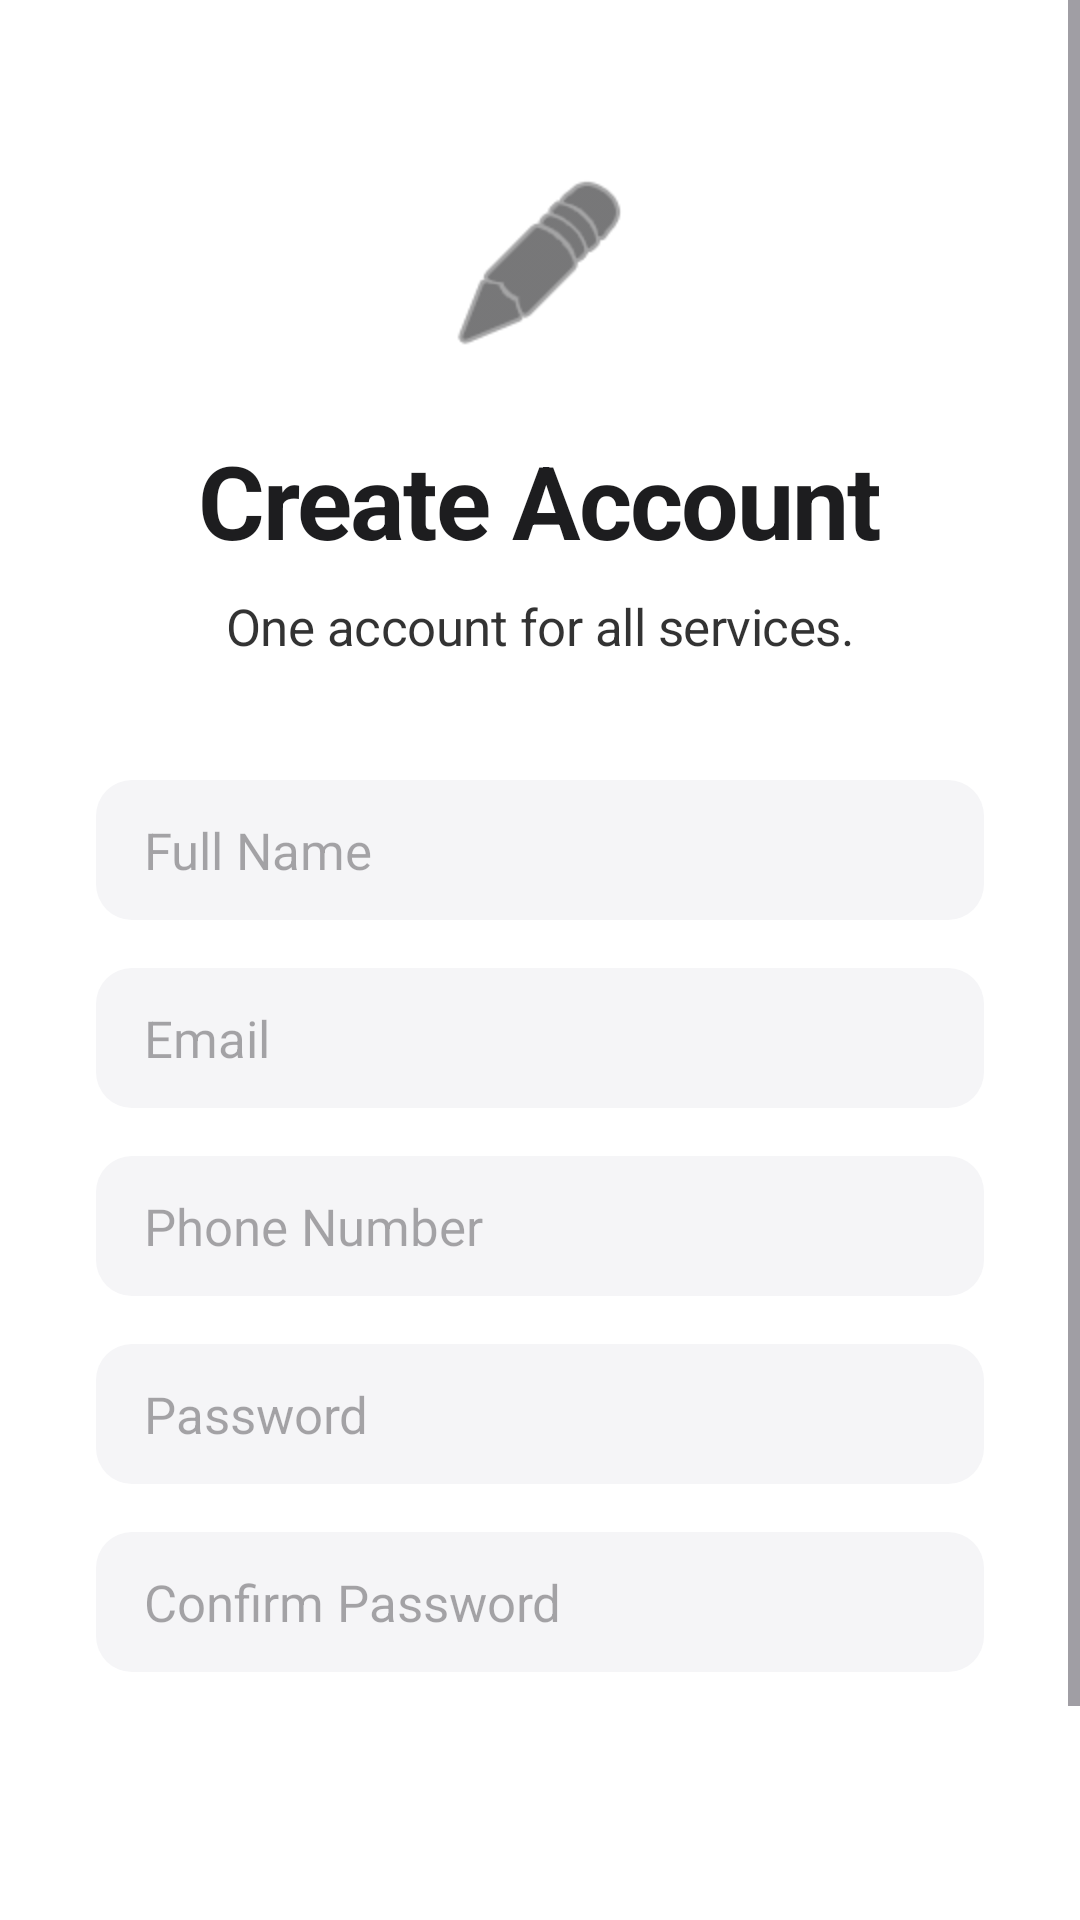

Screen size 1080×1920. Icon name, then its box in pixels as (x1, y1, x2, y2):
Register Icon: (458, 181, 621, 344)
